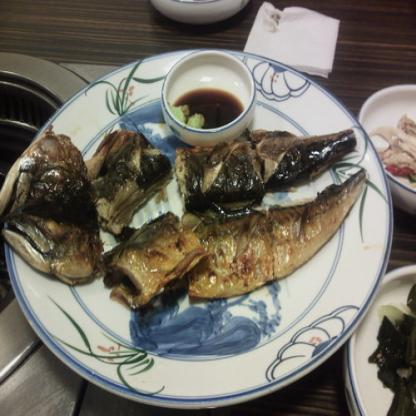Peixe: (1, 121, 362, 302)
